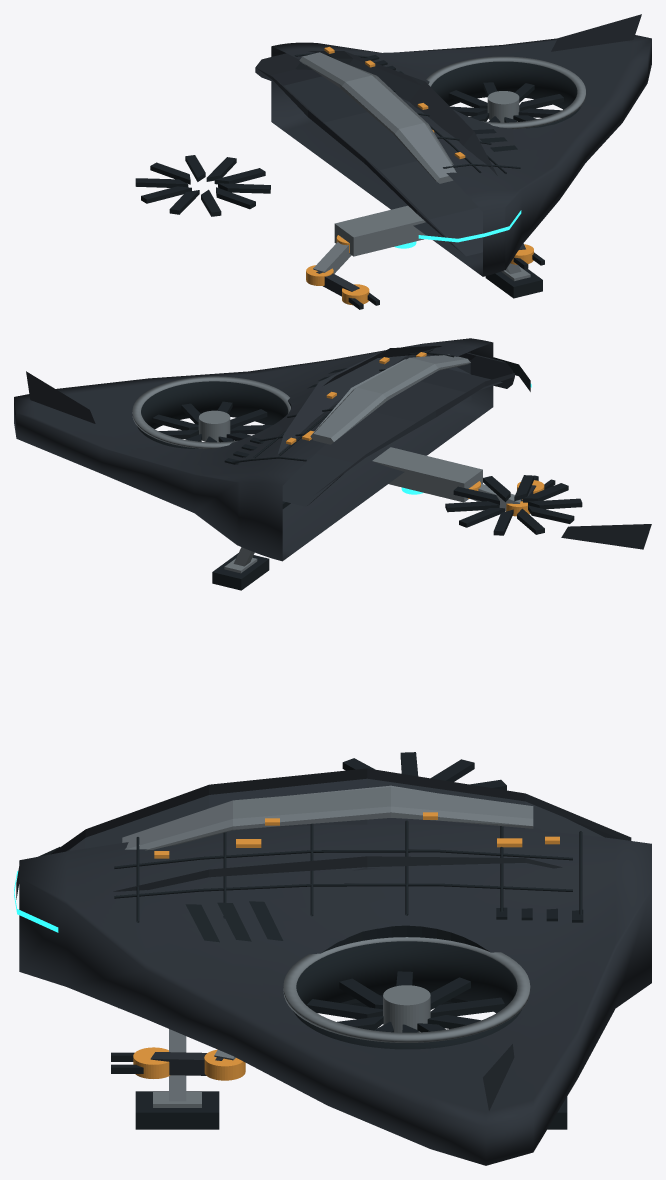
The model's file is engineer.glb.
3 renders of one model, top to bottom at view 1: azimuth 30°, elevation 25°; view 2: azimuth 150°, elevation 25°; view 3: azimuth 270°, elevation 25°, orthographic. The views are drawn at different scales.
Visible parts, largest first — view 1: BlendedWing_StructuralShell, SculptedCentralArmor, SpineInset, DuctWall, ArmSupportKeel, MachinedDuctLip, WingtipFence.001, Gear_Foot, TurbineHub, ArmUpper, RotorBlade_-1_06, RotorBlade_-1_01 (+4 smaller); view 2: BlendedWing_StructuralShell, SculptedCentralArmor, DuctWall, SpineInset, ArmSupportKeel, MachinedDuctLip, WingtipFence, WingtipFence.001, Gear_Foot.001, TurbineHub, RotorBlade_-1_09, RotorBlade_-1_04 (+6 smaller); view 3: BlendedWing_StructuralShell, SculptedCentralArmor, SpineInset, DuctWall, MachinedDuctLip, Gear_Foot, TurbineHub, SpineSeam.001, SpineSeam, ArmLower.001, RotorBlade_1_03, RotorBlade_1_07 (+4 smaller).
Boxes of the visible parts, x1,y1,x2,y2 form: BlendedWing_StructuralShell: (271, 35, 651, 276); SculptedCentralArmor: (255, 51, 497, 256); SpineInset: (299, 52, 456, 183); DuctWall: (431, 61, 581, 128); ArmSupportKeel: (334, 205, 425, 256); MachinedDuctLip: (426, 56, 585, 129); WingtipFence.001: (551, 14, 641, 51); Gear_Foot: (485, 266, 542, 298); TurbineHub: (487, 91, 519, 122); ArmUpper: (313, 237, 351, 273); RotorBlade_-1_06: (218, 183, 270, 193); RotorBlade_-1_01: (135, 178, 188, 187); BlendedWing_StructuralShell: (14, 338, 493, 561); SculptedCentralArmor: (278, 346, 514, 506); DuctWall: (137, 381, 288, 448); SpineInset: (310, 354, 470, 444); ArmSupportKeel: (372, 447, 482, 502); MachinedDuctLip: (132, 376, 290, 448); WingtipFence: (561, 524, 651, 549); WingtipFence.001: (26, 371, 95, 423); Gear_Foot.001: (212, 553, 269, 590); TurbineHub: (198, 410, 230, 442); RotorBlade_-1_09: (528, 498, 582, 509); RotorBlade_-1_04: (445, 501, 499, 512); BlendedWing_StructuralShell: (19, 824, 651, 1165); SculptedCentralArmor: (51, 768, 631, 891); SpineInset: (122, 785, 533, 850); DuctWall: (293, 941, 521, 1049); MachinedDuctLip: (283, 937, 530, 1042); Gear_Foot: (135, 1091, 219, 1129); TurbineHub: (383, 985, 430, 1032); SpineSeam.001: (114, 883, 572, 898); SpineSeam: (114, 849, 572, 868); ArmLower.001: (150, 1052, 223, 1075); RotorBlade_1_03: (430, 997, 504, 1017); RotorBlade_1_07: (306, 999, 382, 1019).
Bounding box in the file's own units: 6.98 × 1.82 × 4.03.
